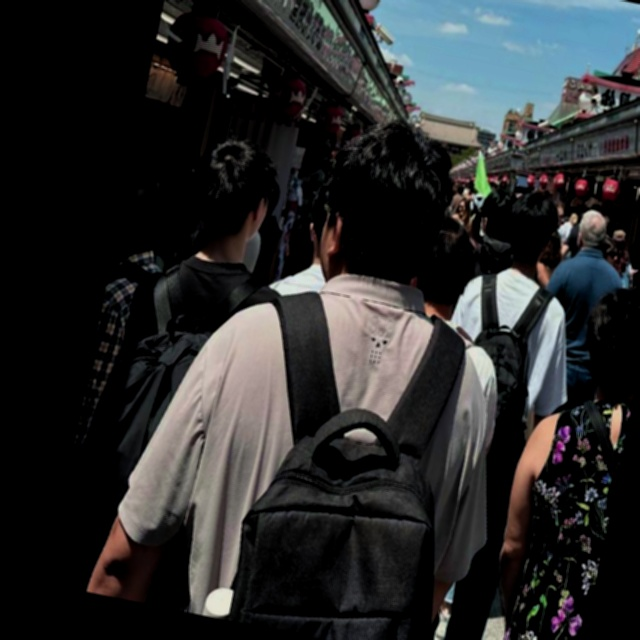Sin_Casco_Mascarrilla: (306, 103, 460, 300), (181, 131, 279, 249)
